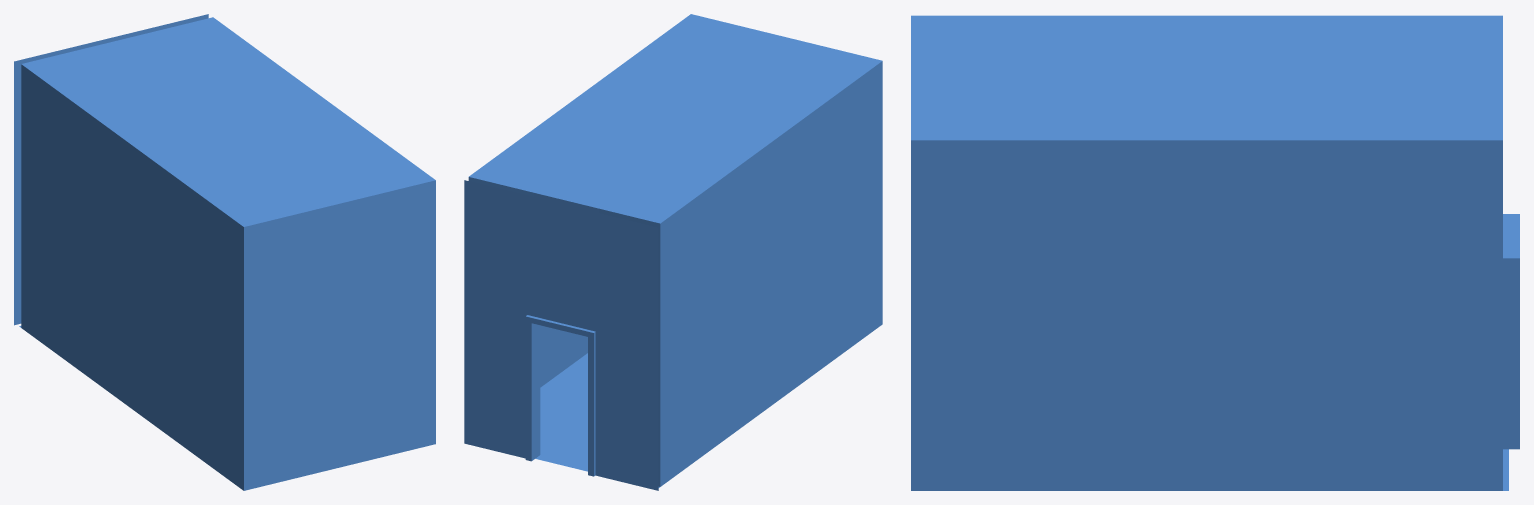
The model's file is Habitacionfbx.fbx.
The picture shows the model from 3 angles, left to right: view 1: azimuth 30°, elevation 25°; view 2: azimuth 150°, elevation 25°; view 3: azimuth 270°, elevation 25°; orthographic projection. The views are drawn at different scales.
Parts seen in each view (by area): view 1: Cube.025, Cube.042; view 2: Cube.025, Cube.042, Cube.033, Puerta_PP.002; view 3: Cube.025, Cube.042, Puerta_PP.002.
Part boxes in pixels (x1,y1,x2,y2): Cube.025: [14, 14, 435, 490]; Cube.042: [21, 17, 435, 226]; Cube.025: [464, 61, 882, 490]; Cube.042: [469, 14, 882, 223]; Cube.033: [535, 353, 659, 487]; Puerta_PP.002: [525, 315, 595, 476]; Cube.025: [911, 140, 1502, 490]; Cube.042: [911, 15, 1502, 140]; Puerta_PP.002: [1503, 214, 1519, 449].
Size of what is drawn, in the model's own units: 312 by 404 by 637.
